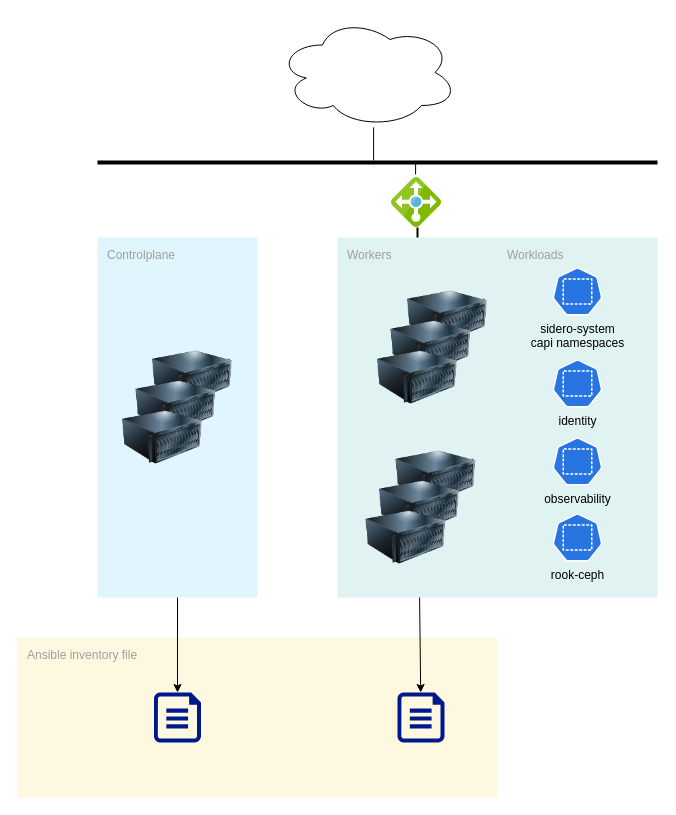
Some shapes in this 676 by 815 pixel diagram are drawn without their labels. Here are the shapes that lost their labels. From the top down, the centre of each, then its label:
At pixel 416 202: "MetalLB".
At pixel 177 717: "Controlplane Group".
At pixel 420 717: "Worker group".
